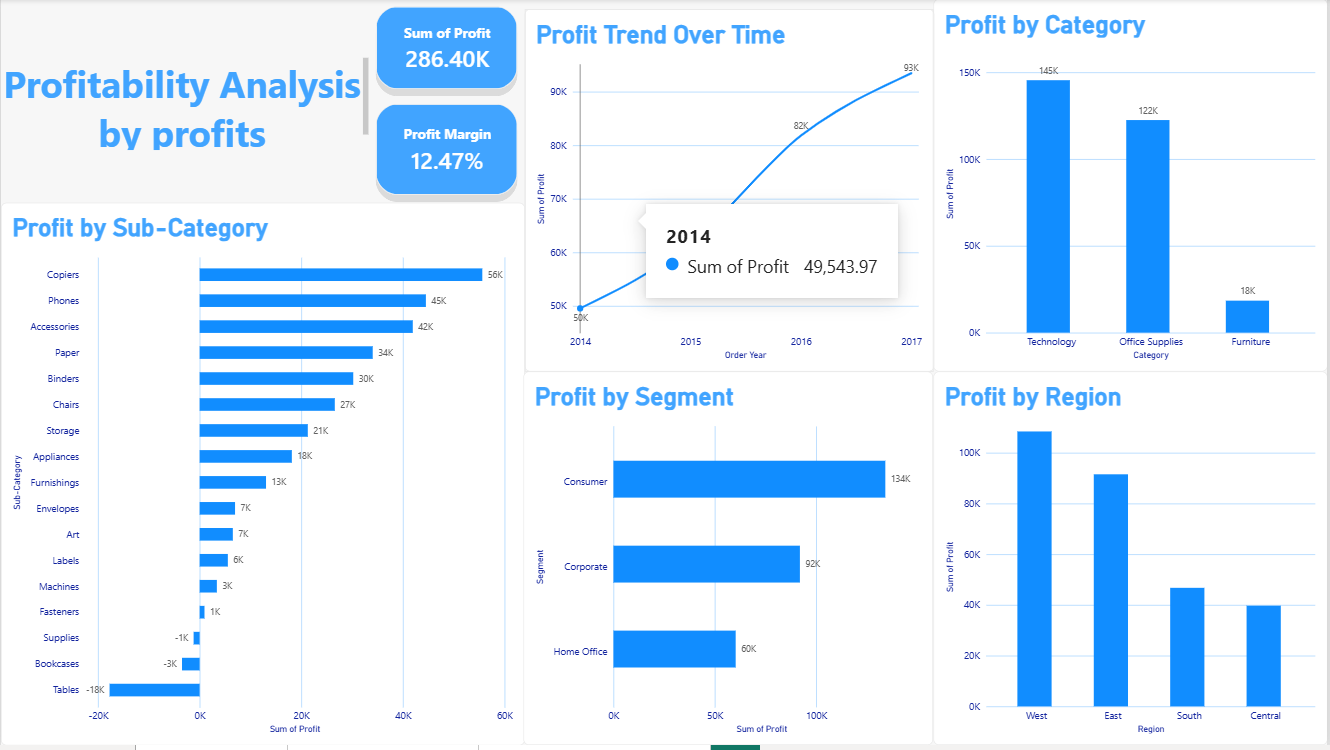

The page's visual inventory and layout, read from the dashboard file:
{"tool":"powerbi","page":{"name":"Profitability_Analysis","canvas":[1920,1080],"ordinal":1},"visuals":[{"type":"cardVisual","fields":{"Data":["Sum(Superstore.Profit)"]},"box":[532,0,226.2,141.2],"z":0},{"type":"cardVisual","fields":{"Data":["Superstore.Profit Margin"]},"box":[532,141.2,226.2,153.8],"z":1},{"type":"clusteredColumnChart","title":"Profit by Category","fields":{"Category":["Superstore.Category"],"Y":["Sum(Superstore.Profit)"]},"box":[1350.3,0,570.2,539.3],"z":2},{"type":"lineChart","title":"Profit Trend Over Time","fields":{"Category":["Superstore.Order Year"],"Y":["Sum(Superstore.Profit)"]},"box":[757.5,14.4,592.8,524.9],"z":3},{"type":"barChart","title":"Profit by Sub-Category","fields":{"Category":["Superstore.Sub-Category"],"Y":["Sum(Superstore.Profit)"]},"box":[0,295,758.2,785.4],"z":4},{"type":"barChart","title":"Profit by Segment","fields":{"Category":["Superstore.Segment"],"Y":["Sum(Superstore.Profit)"]},"box":[757,539,593,541],"z":5},{"type":"columnChart","title":"Profit by Region","fields":{"Category":["Superstore.Region"],"Y":["Sum(Superstore.Profit)"]},"box":[1350,539,570,541],"z":6},{"type":"textbox","box":[0,85.1,532,133.9],"z":7}]}

Visuals, with their boxes in screenshot pixels (x1, y1, x2, y2), scaled from the page's 1920x1080 canvas onto the 1330x750 screenshot:
cardVisual - Sum(Superstore.Profit): rect(369, 0, 525, 98)
cardVisual - Superstore.Profit Margin: rect(369, 98, 525, 205)
"Profit by Category" clusteredColumnChart: rect(935, 0, 1329, 375)
"Profit Trend Over Time" lineChart: rect(525, 10, 935, 375)
"Profit by Sub-Category" barChart: rect(0, 205, 525, 749)
"Profit by Segment" barChart: rect(524, 374, 935, 749)
"Profit by Region" columnChart: rect(935, 374, 1329, 749)
textbox: rect(0, 59, 369, 152)
